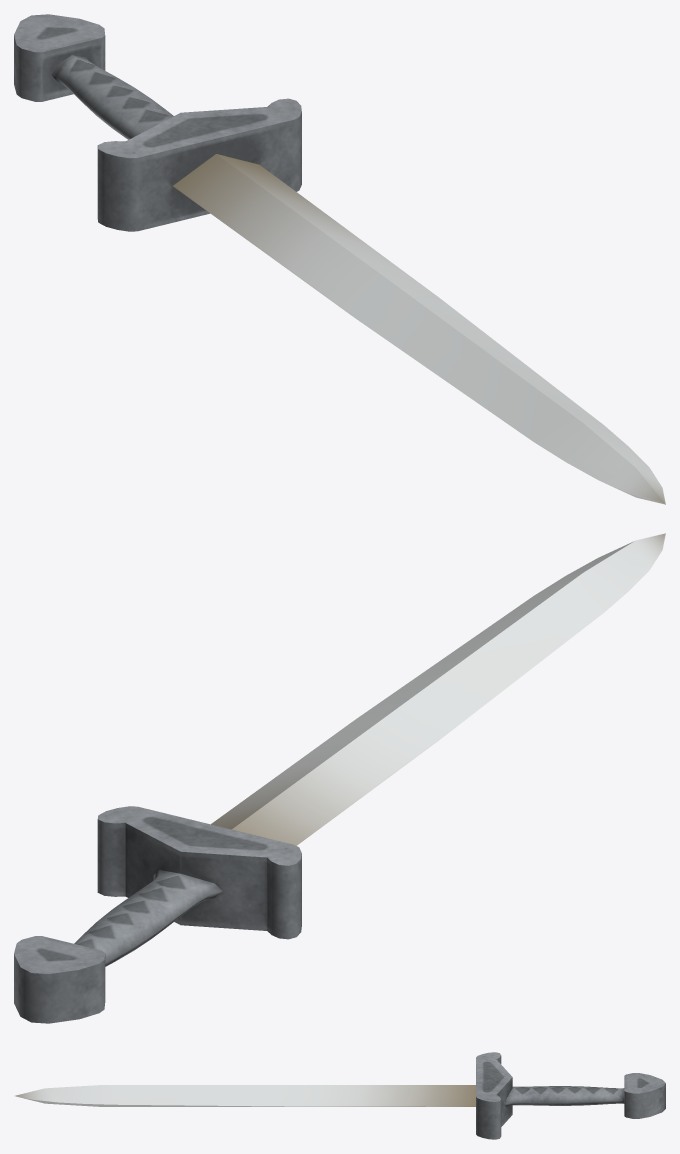
Rendered from sb_obj_weapon007_IronSword.fbx.
The picture shows the model from 3 angles, top to bottom: view 1: azimuth 30°, elevation 25°; view 2: azimuth 150°, elevation 25°; view 3: azimuth 270°, elevation 25°; orthographic projection. The views are drawn at different scales.
Parts seen in each view (by area): view 1: sb_obj_weapon007_IronSword; view 2: sb_obj_weapon007_IronSword; view 3: sb_obj_weapon007_IronSword.
Part boxes in pixels (x1=…): sb_obj_weapon007_IronSword: x1=14, y1=14, x2=665, y2=504; sb_obj_weapon007_IronSword: x1=14, y1=533, x2=665, y2=1023; sb_obj_weapon007_IronSword: x1=15, y1=1052, x2=665, y2=1139.
Size of the model in its own units: 0.1163 by 0.0412 by 0.6446.
